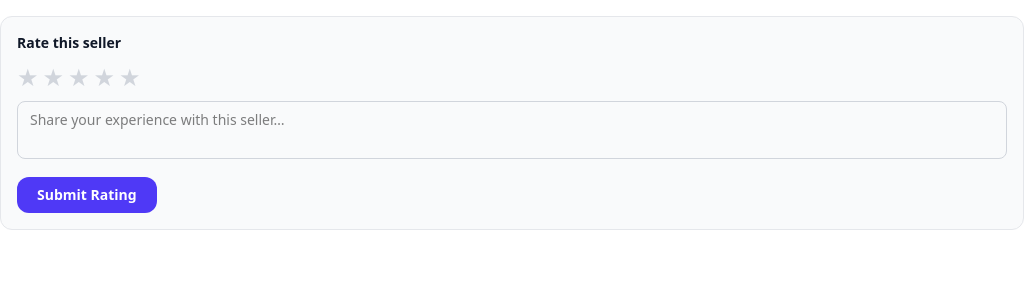
Test: SellerReviewPanel › surfaces the backend's duplicate-review error message verbatim
Click the radio button named "4 stars": click(104, 77) [94,65,115,89]
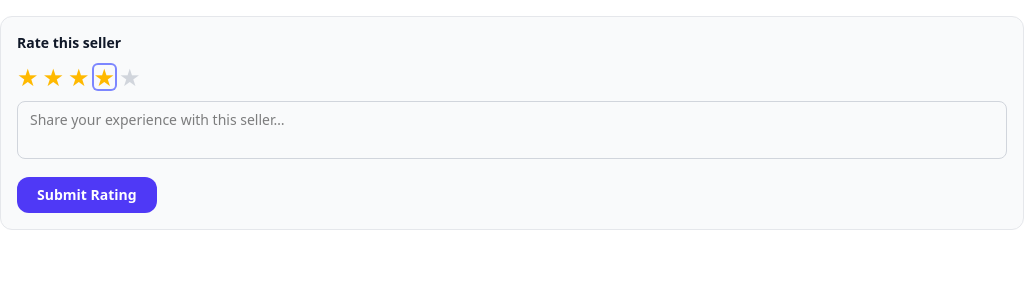
Click the button "Submit Rating": click(87, 195) [17,177,157,213]
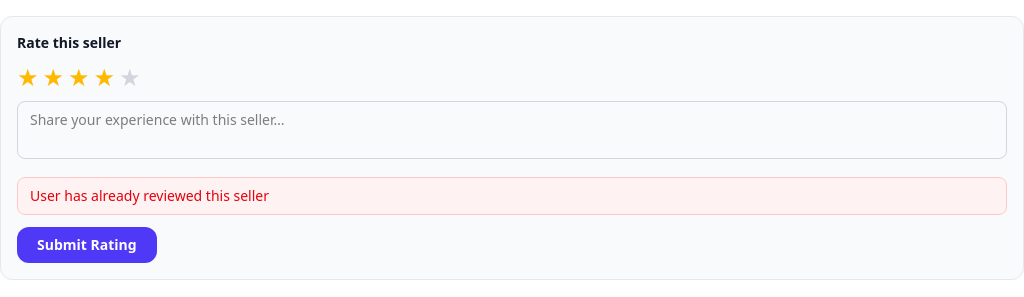
Expected: the text "User has already reviewed this seller" is shown, [17,177,1007,215]
